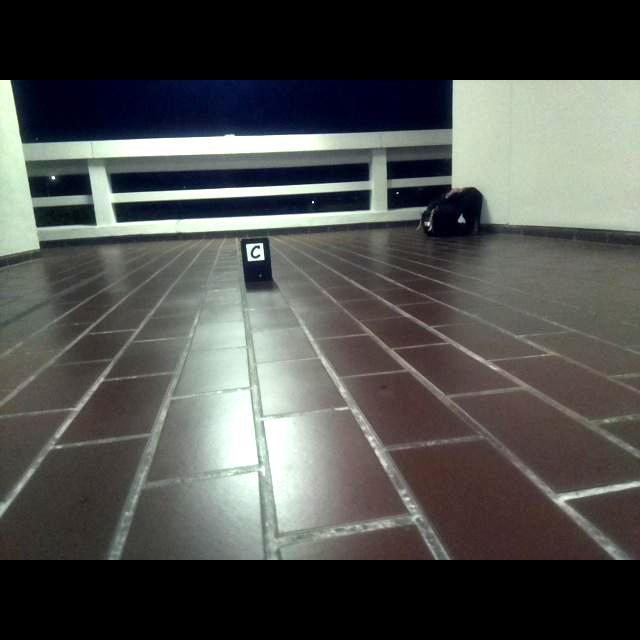C: (250, 246, 261, 260)
